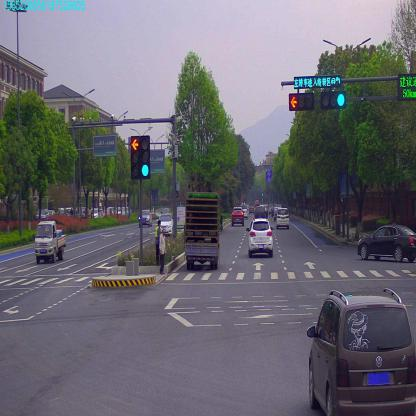traffic-light: (293, 76, 342, 89), (287, 93, 313, 113), (321, 92, 347, 108)
